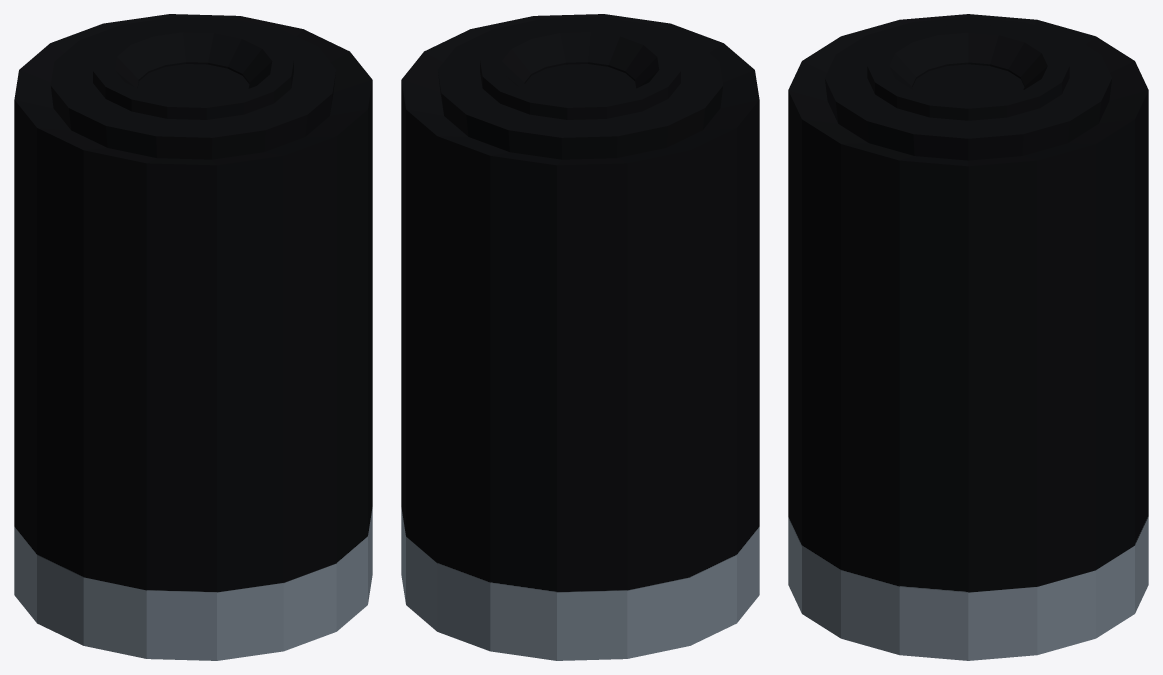
The model's file is Light_Bake.fbx.
3 views of the same model, side by side, from view 1: azimuth 30°, elevation 25°; view 2: azimuth 150°, elevation 25°; view 3: azimuth 270°, elevation 25° (orthographic).
Visible parts, largest first — view 1: Light_Bake; view 2: Light_Bake; view 3: Light_Bake.
Part boxes in pixels (x1=…): Light_Bake: x1=14, y1=14, x2=372, y2=660; Light_Bake: x1=401, y1=14, x2=759, y2=660; Light_Bake: x1=788, y1=14, x2=1148, y2=660.
Bounding box in the file's own units: 16.97 × 16.97 × 26.94.
1 material, 1 textured.
